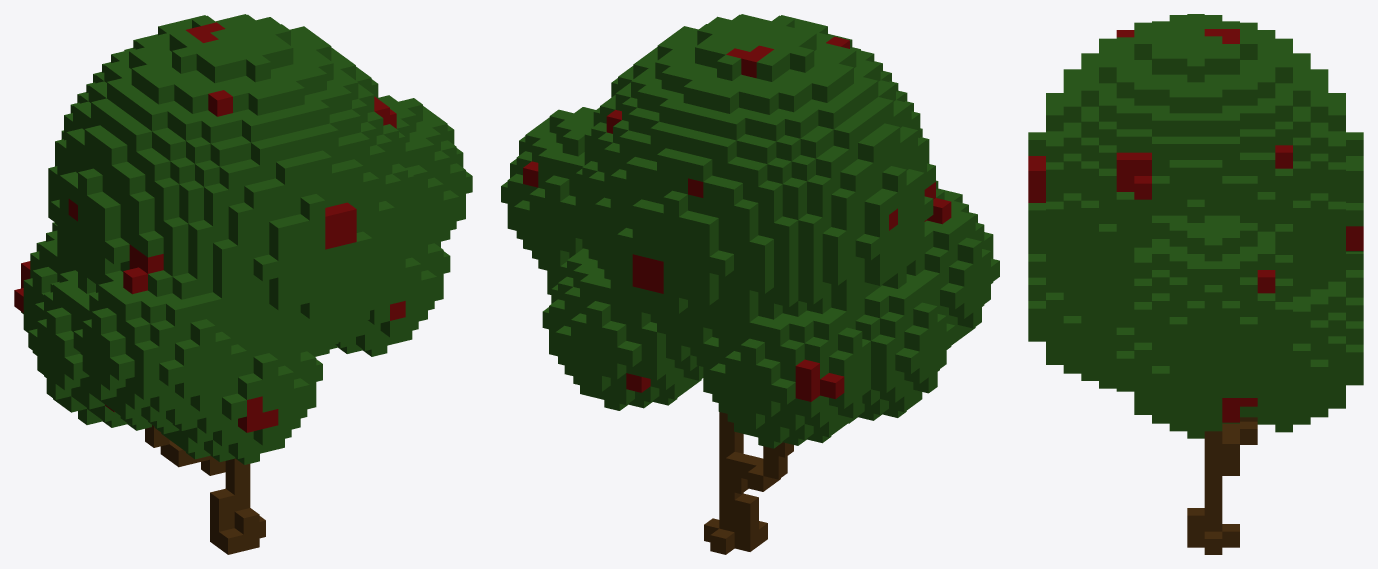
File: bush2.obj
The picture shows the model from 3 angles, left to right: view 1: azimuth 30°, elevation 25°; view 2: azimuth 150°, elevation 25°; view 3: azimuth 270°, elevation 25°; orthographic projection. The views are drawn at different scales.
Bounding box in the file's own units: 2.6 × 3.1 × 1.9.
Materials: 1 (1 with a texture image).
